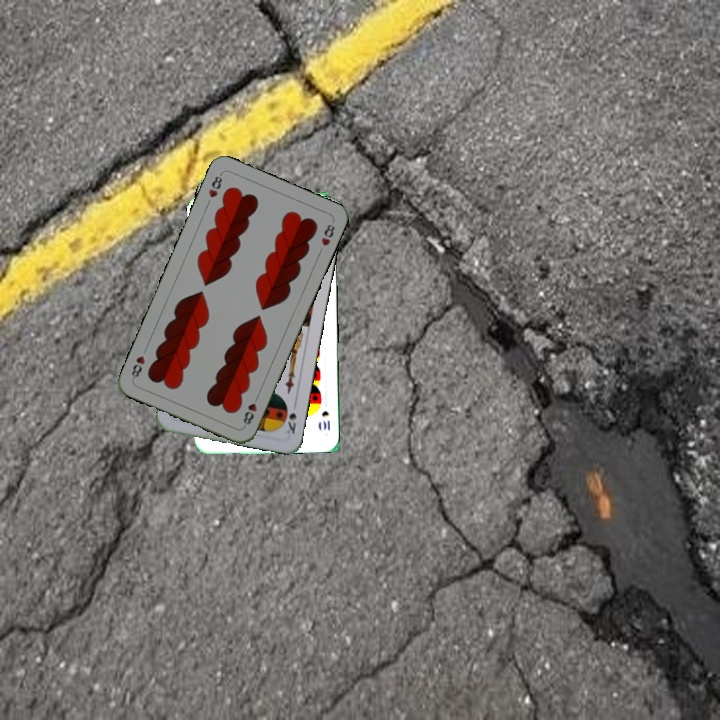H8: (239, 391, 262, 429), (204, 169, 225, 200)
S10: (318, 407, 332, 433)
SK: (281, 409, 299, 437)
